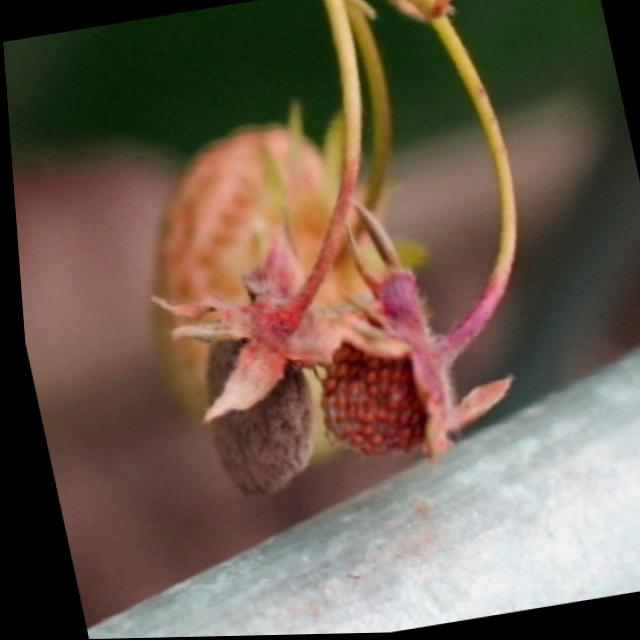Gray Mold: (141, 239, 335, 504)
